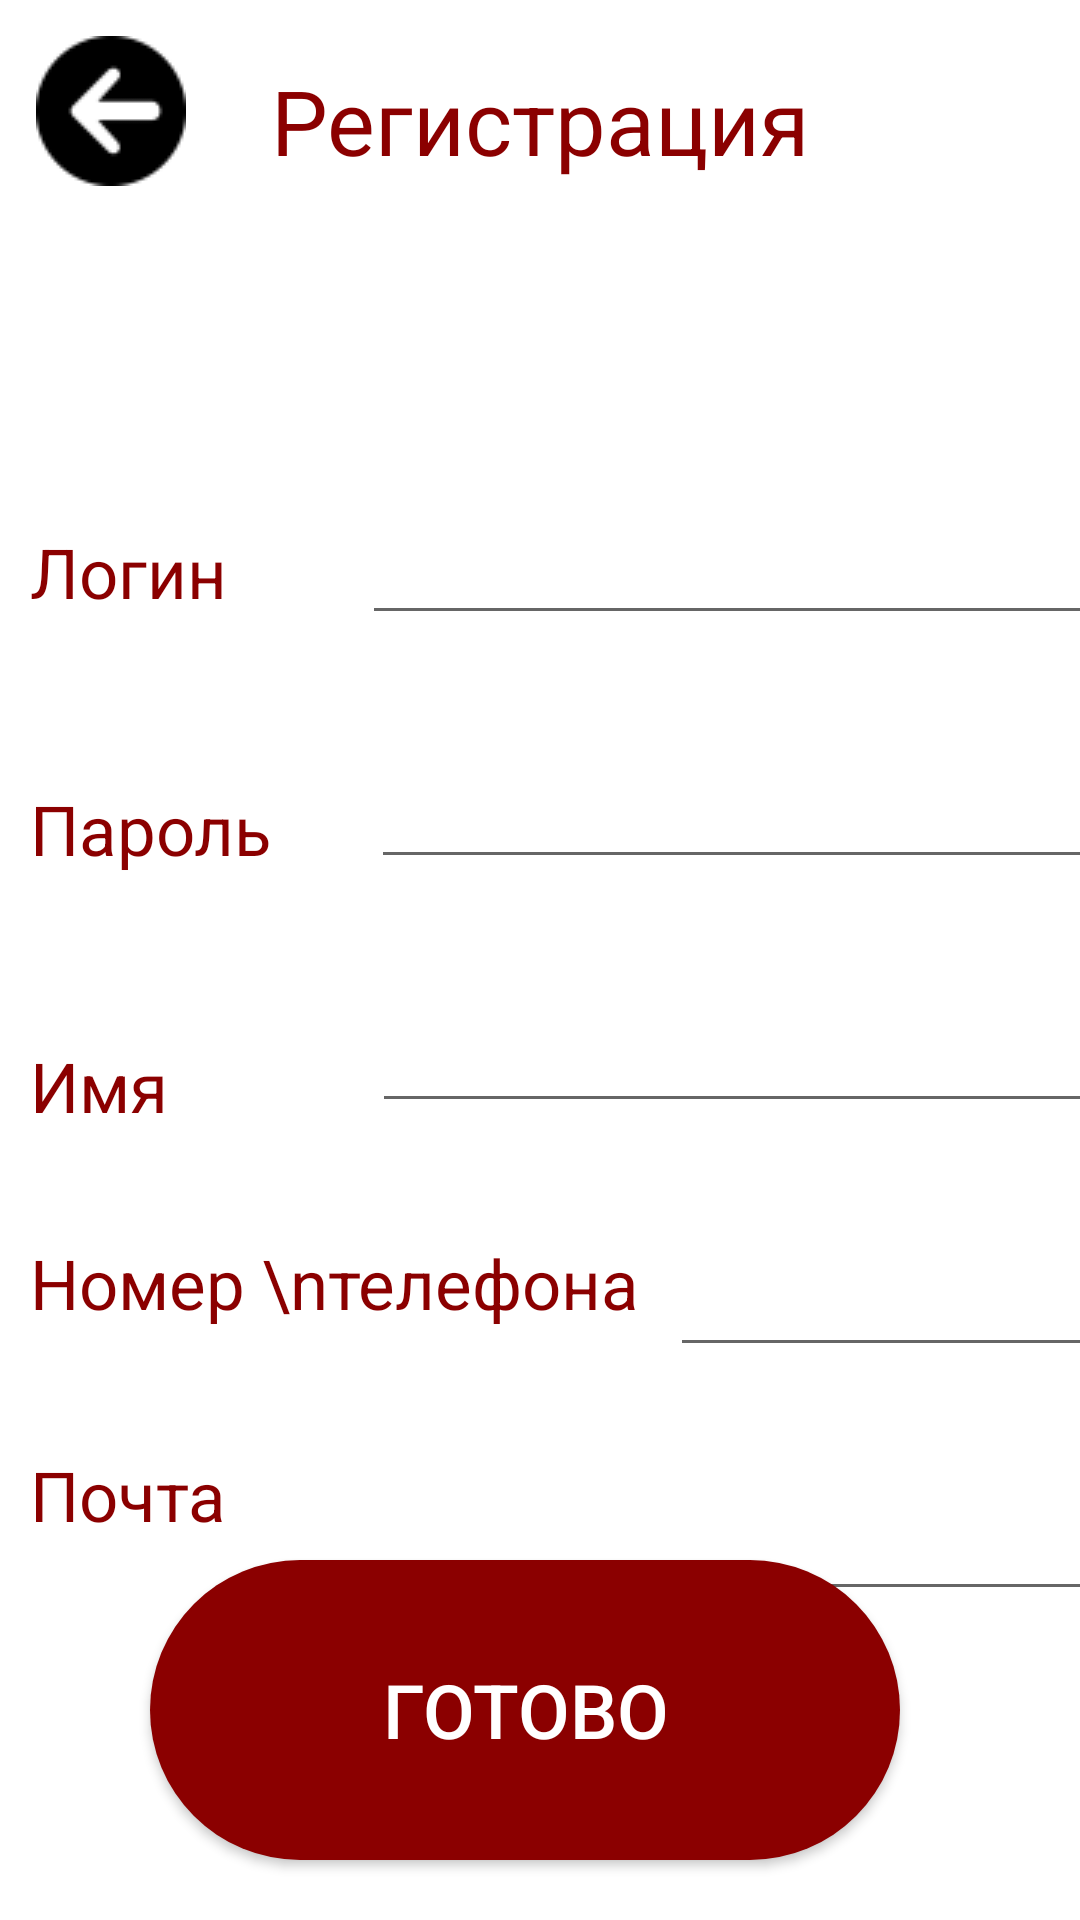

Point at icon controls on the screen. Image size 1080px×1920px, points as (x=x, y=y).
back: (x=111, y=111)
